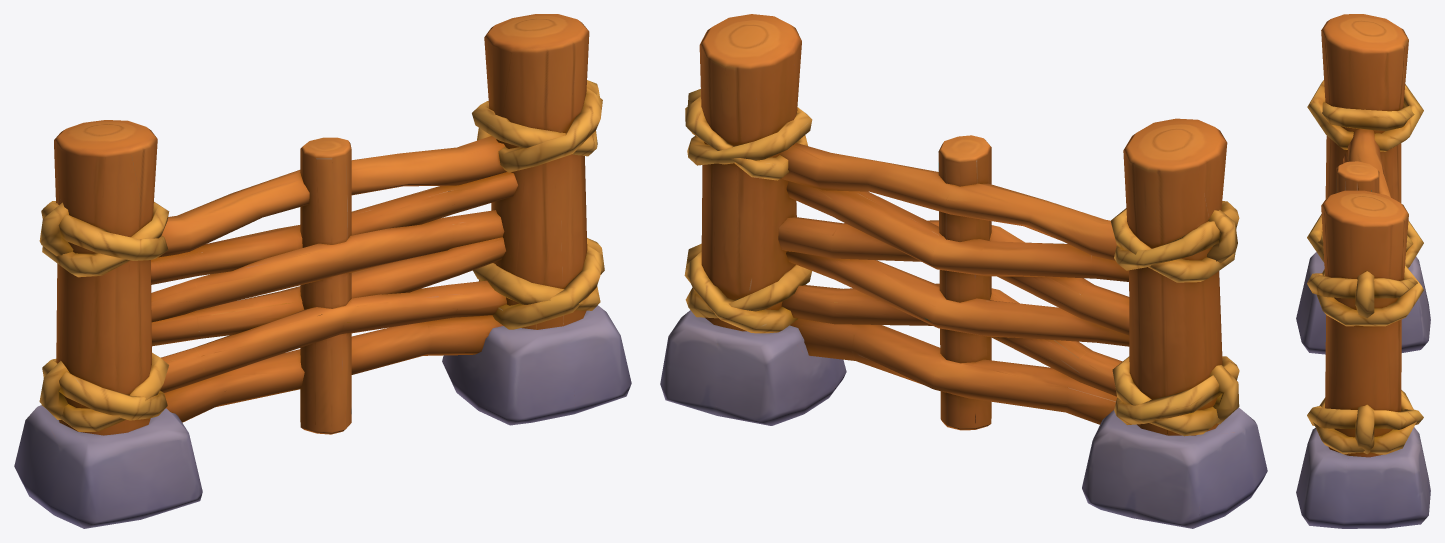
File: fence_rail.glb
3 renders of one model, left to right at view 1: azimuth 30°, elevation 25°; view 2: azimuth 150°, elevation 25°; view 3: azimuth 270°, elevation 25°, orthographic. The views are drawn at different scales.
Visible parts, largest first — view 1: fence_rail; view 2: fence_rail; view 3: fence_rail.
Boxes of the visible parts, x1,y1,x2,y2 form: fence_rail: (14,14,631,528); fence_rail: (660,14,1267,528); fence_rail: (1296,14,1430,528).
Size of the model in its own units: 0.6714 by 0.4106 by 0.1655.
1 material, 1 textured.
